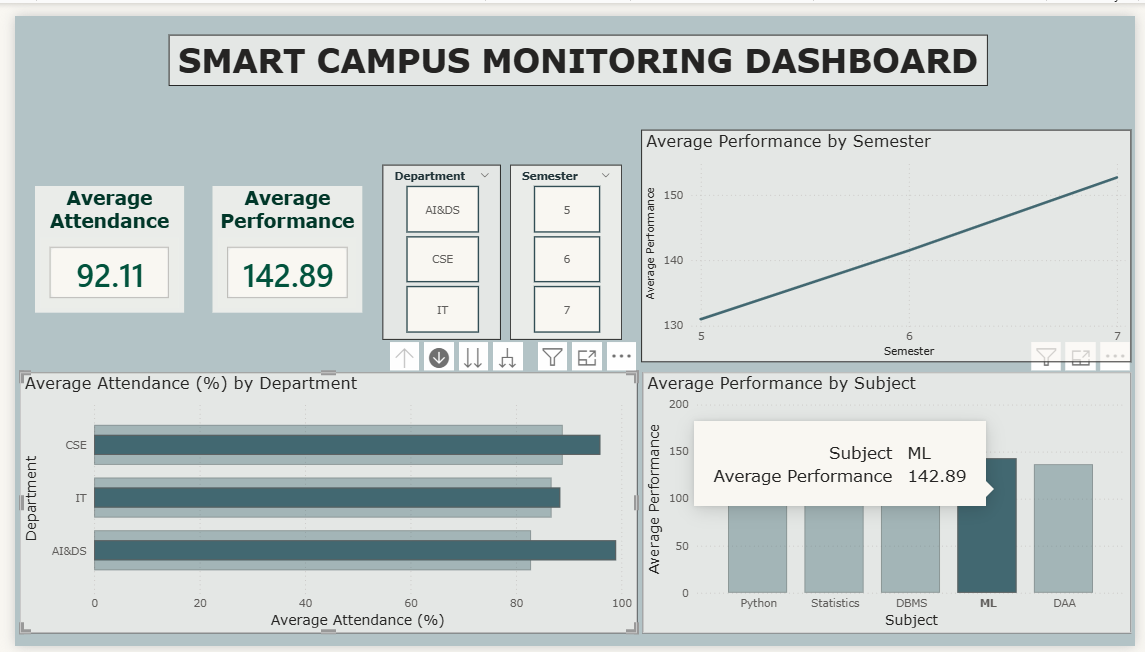

This screenshot's page, from the dashboard's own definition file:
{"tool":"powerbi","page":{"name":"Page 1","canvas":[1280,720],"ordinal":0},"visuals":[{"type":"cardVisual","title":"Average Attendance","fields":{"Data":["5 student_performance.Average Attendance (%)"]},"box":[23.2,194.3,170,145],"z":0},{"type":"clusteredBarChart","fields":{"Category":["5 student_performance.Department","5 student_performance.Subject","5 student_performance.Student_ID"],"Y":["5 student_performance.Average Attendance (%)"]},"box":[5.7,407.1,705.7,298.6],"z":1000},{"type":"clusteredColumnChart","fields":{"Category":["5 student_performance.Subject"],"Y":["5 student_performance.Average Performance"]},"box":[717.1,407.1,558.6,298.6],"z":2000},{"type":"lineChart","fields":{"Category":["5 student_performance.Semester"],"Y":["5 student_performance.Average Performance"]},"box":[715.7,130.6,560,265.7],"z":3000},{"type":"slicer","fields":{"Values":["5 student_performance.Department"]},"box":[420,169.4,135,200],"z":4000},{"type":"textbox","box":[175.7,21.4,935.7,58.6],"z":5000},{"type":"cardVisual","title":"Average Performance","fields":{"Data":["5 student_performance.Average Performance"]},"box":[225.7,194.3,171.2,145],"z":6000},{"type":"slicer","fields":{"Values":["5 student_performance.Semester"]},"box":[565.7,169.6,127.8,200],"z":7000}]}

Visuals, with their boxes in screenshot pixels (x1, y1, x2, y2), scaled from the page's 1280x720 canvas onto the 1145x652 screenshot:
"Average Attendance" cardVisual: locate(21, 176, 173, 307)
clusteredBarChart - 5 student_performance.Department x 5 student_performance.Subject: locate(5, 369, 636, 639)
clusteredColumnChart - 5 student_performance.Subject x 5 student_performance.Average Performance: locate(641, 369, 1141, 639)
lineChart - 5 student_performance.Semester x 5 student_performance.Average Performance: locate(640, 118, 1141, 359)
slicer - 5 student_performance.Department: locate(376, 153, 496, 335)
textbox: locate(157, 19, 994, 72)
"Average Performance" cardVisual: locate(202, 176, 355, 307)
slicer - 5 student_performance.Semester: locate(506, 154, 620, 335)
